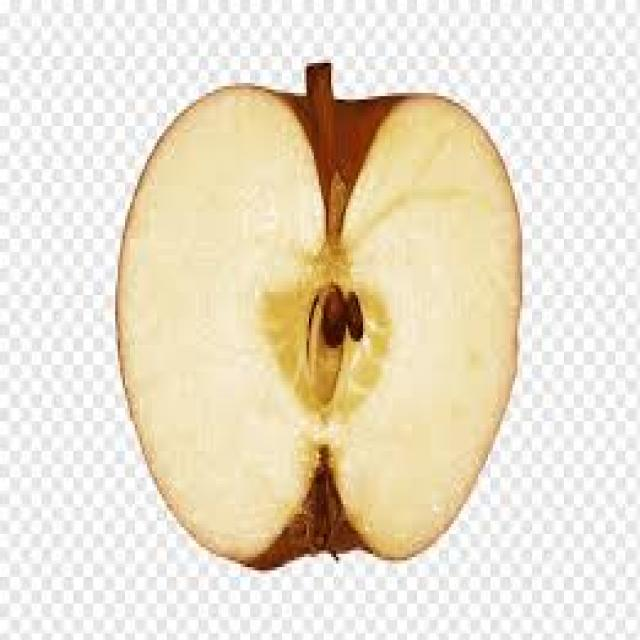Apple: (116, 88, 522, 563)
